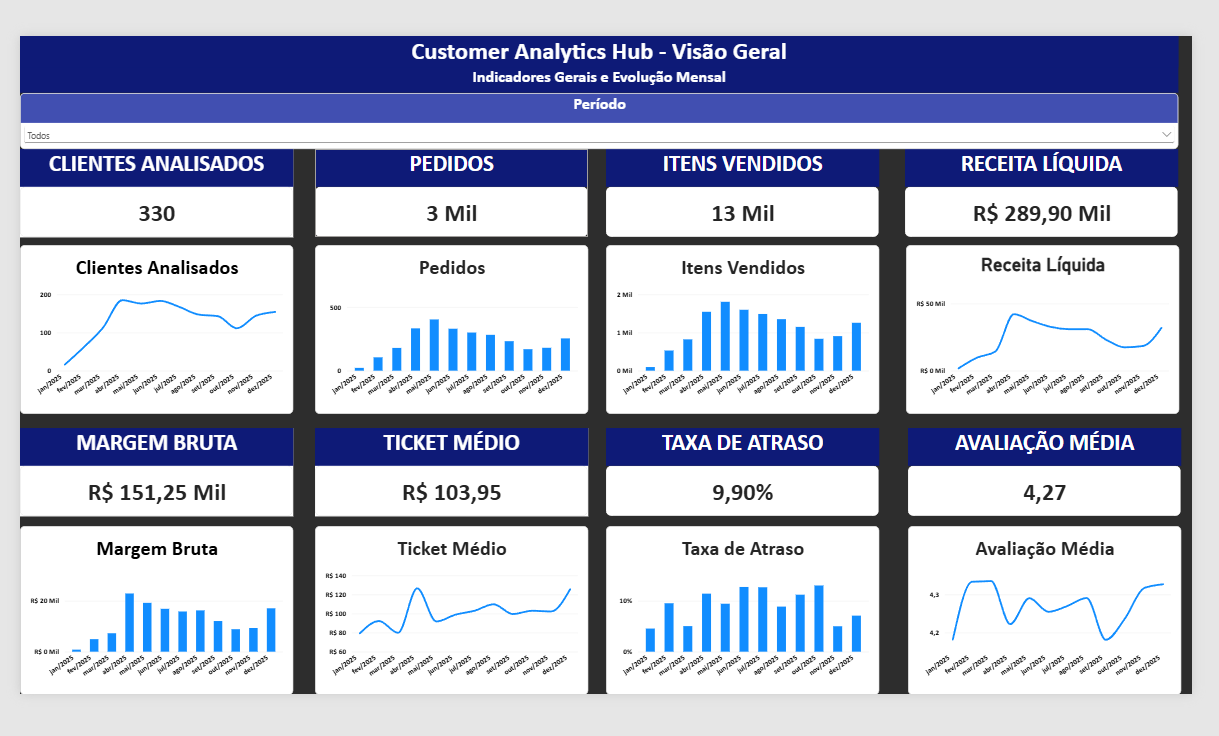

What the dashboard file says about the page in this screenshot:
{"tool":"powerbi","page":{"name":"Página 1","canvas":[1920,1080],"ordinal":0},"visuals":[{"type":"cardVisual","title":"CLIENTES ANALISADOS","fields":{"Data":["00_Medidas.Clientes Analisados"]},"box":[0,185.3,447.8,144.6],"z":0},{"type":"cardVisual","title":"ITENS VENDIDOS","fields":{"Data":["00_Medidas.Itens Vendidos"]},"box":[961.3,185.3,447.8,144.6],"z":1000},{"type":"cardVisual","title":"PEDIDOS","fields":{"Data":["00_Medidas.Pedidos"]},"box":[484,185.3,447.8,144.6],"z":2000},{"type":"cardVisual","title":"RECEITA LÍQUIDA ","fields":{"Data":["00_Medidas.Receita Líquida"]},"box":[1450.7,185.3,447.8,144.6],"z":3000},{"type":"cardVisual","title":"AVALIAÇÃO MÉDIA","fields":{"Data":["00_Medidas.Avaliação Média"]},"box":[1455.1,642.1,447.8,144.6],"z":4000},{"type":"cardVisual","title":"TICKET MÉDIO ","fields":{"Data":["00_Medidas.Ticket Médio"]},"box":[483.6,642.1,447.8,144.6],"z":5000},{"type":"cardVisual","title":"TAXA DE ATRASO","fields":{"Data":["00_Medidas.Taxa de Atraso"]},"box":[961,642.1,447.8,144.6],"z":6000},{"type":"cardVisual","title":"MARGEM BRUTA","fields":{"Data":["00_Medidas.Margem Bruta"]},"box":[0,642.1,447.8,144.6],"z":7000},{"type":"lineStackedColumnComboChart","title":"Pedidos","fields":{"Category":["gold dim_data.Ano_Mes_Exibicao"],"Y":["00_Medidas.Pedidos"]},"box":[483.6,341.9,447.8,277],"z":9000},{"type":"lineStackedColumnComboChart","title":"Itens Vendidos","fields":{"Category":["gold dim_data.Ano_Mes_Exibicao"],"Y":["00_Medidas.Itens Vendidos"]},"box":[961,341.9,447.8,277],"z":10000},{"type":"lineChart","title":"Receita Líquida","fields":{"Category":["gold dim_data.Ano_Mes_Exibicao"],"Y":["00_Medidas.Receita Líquida"]},"box":[1453,341.9,447.8,277],"z":11000},{"type":"lineChart","title":"Clientes Analisados ","fields":{"Category":["gold dim_data.Ano_Mes_Exibicao"],"Y":["00_Medidas.Clientes Analisados"]},"box":[0,341.9,447.8,277],"z":12000},{"type":"clusteredColumnChart","title":"Margem Bruta","fields":{"Category":["gold dim_data.Ano_Mes_Exibicao"],"Y":["00_Medidas.Margem Bruta"]},"box":[0,802.6,447.8,277],"z":13000},{"type":"lineChart","title":"Ticket Médio ","fields":{"Category":["gold dim_data.Ano_Mes_Exibicao"],"Y":["00_Medidas.Ticket Médio"]},"box":[483.6,802.6,447.8,277],"z":14000},{"type":"lineClusteredColumnComboChart","title":"Taxa de Atraso","fields":{"Category":["gold dim_data.Ano_Mes_Exibicao"],"Y":["00_Medidas.Taxa de Atraso"]},"box":[961.3,802.7,447.8,277],"z":15000},{"type":"lineChart","title":"Avaliação Média ","fields":{"Category":["gold dim_data.Ano_Mes_Exibicao"],"Y":["00_Medidas.Avaliação Média"]},"box":[1455.1,802.6,447.8,277],"z":16000},{"type":"textbox","title":"Customer Analytics Hub - Visão Geral ","box":[0,0,1898.7,93.3],"z":16001},{"type":"slicer","title":"Período","fields":{"Values":["gold dim_data.Ano_Mes_Exibicao"]},"box":[0,93.3,1898.7,92],"z":16002}]}

Visuals, with their boxes in screenshot pixels (x1, y1, x2, y2):
"CLIENTES ANALISADOS" cardVisual: bbox=(22, 147, 293, 234)
"ITENS VENDIDOS" cardVisual: bbox=(603, 147, 873, 234)
"PEDIDOS" cardVisual: bbox=(315, 147, 585, 234)
"RECEITA LÍQUIDA " cardVisual: bbox=(898, 147, 1169, 234)
"AVALIAÇÃO MÉDIA" cardVisual: bbox=(901, 423, 1171, 510)
"TICKET MÉDIO " cardVisual: bbox=(314, 423, 585, 510)
"TAXA DE ATRASO" cardVisual: bbox=(603, 423, 873, 510)
"MARGEM BRUTA" cardVisual: bbox=(22, 423, 293, 510)
"Pedidos" lineStackedColumnComboChart: bbox=(314, 241, 585, 409)
"Itens Vendidos" lineStackedColumnComboChart: bbox=(603, 241, 873, 409)
"Receita Líquida" lineChart: bbox=(900, 241, 1170, 409)
"Clientes Analisados " lineChart: bbox=(22, 241, 293, 409)
"Margem Bruta" clusteredColumnChart: bbox=(22, 520, 293, 687)
"Ticket Médio " lineChart: bbox=(314, 520, 585, 687)
"Taxa de Atraso" lineClusteredColumnComboChart: bbox=(603, 520, 873, 687)
"Avaliação Média " lineChart: bbox=(901, 520, 1171, 687)
"Customer Analytics Hub - Visão Geral " textbox: bbox=(22, 35, 1169, 91)
"Período" slicer: bbox=(22, 91, 1169, 147)
